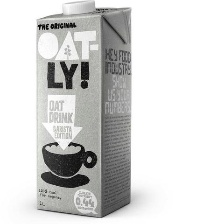carton: (23, 0, 148, 220)
